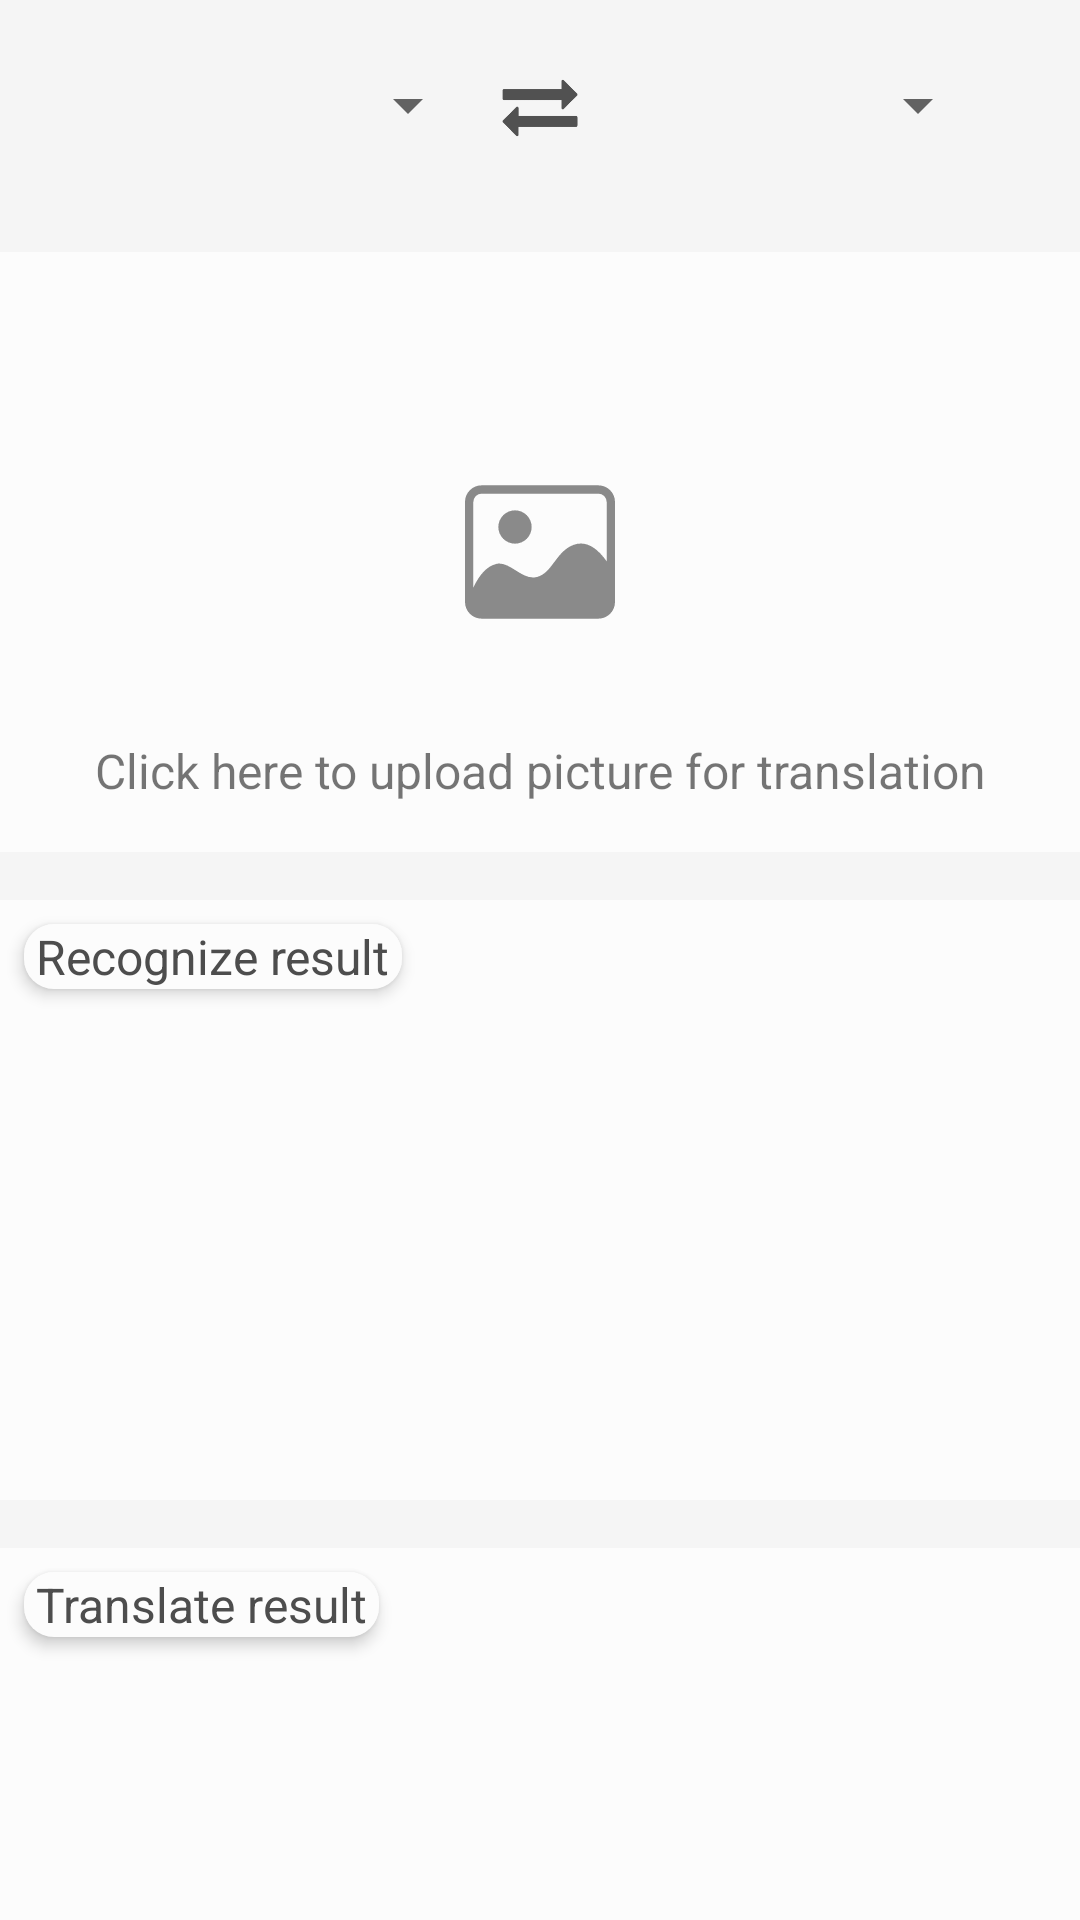

Icons on this 1080px x 1920px Android screen, each with its box as (x1, y1, x2, y2):
switch: (502, 80, 578, 136)
